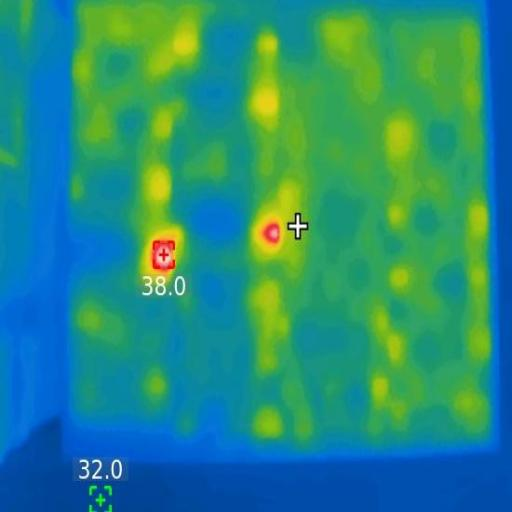hotspot: (150, 238, 179, 273), (260, 218, 283, 248)
